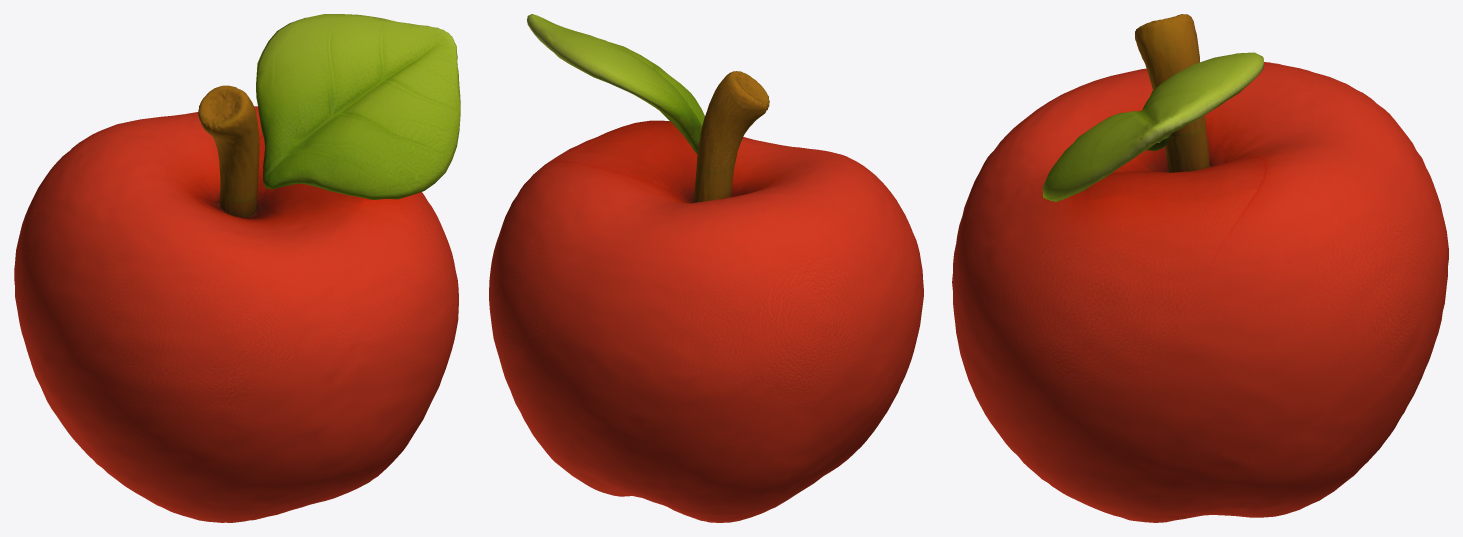
Rendered from mem_ac_apple.fbx.
3 views of the same model, side by side, from view 1: azimuth 30°, elevation 25°; view 2: azimuth 150°, elevation 25°; view 3: azimuth 270°, elevation 25° (orthographic). The views are drawn at different scales.
Parts seen in each view (by area): view 1: tripo_node_df8a9a30; view 2: tripo_node_df8a9a30; view 3: tripo_node_df8a9a30.
Boxes of the visible parts, x1,y1,x2,y2 form: tripo_node_df8a9a30: [14, 14, 460, 522]; tripo_node_df8a9a30: [489, 14, 923, 522]; tripo_node_df8a9a30: [952, 14, 1448, 522].
Bounding box in the file's own units: 0.9434 × 0.998 × 0.9395.
